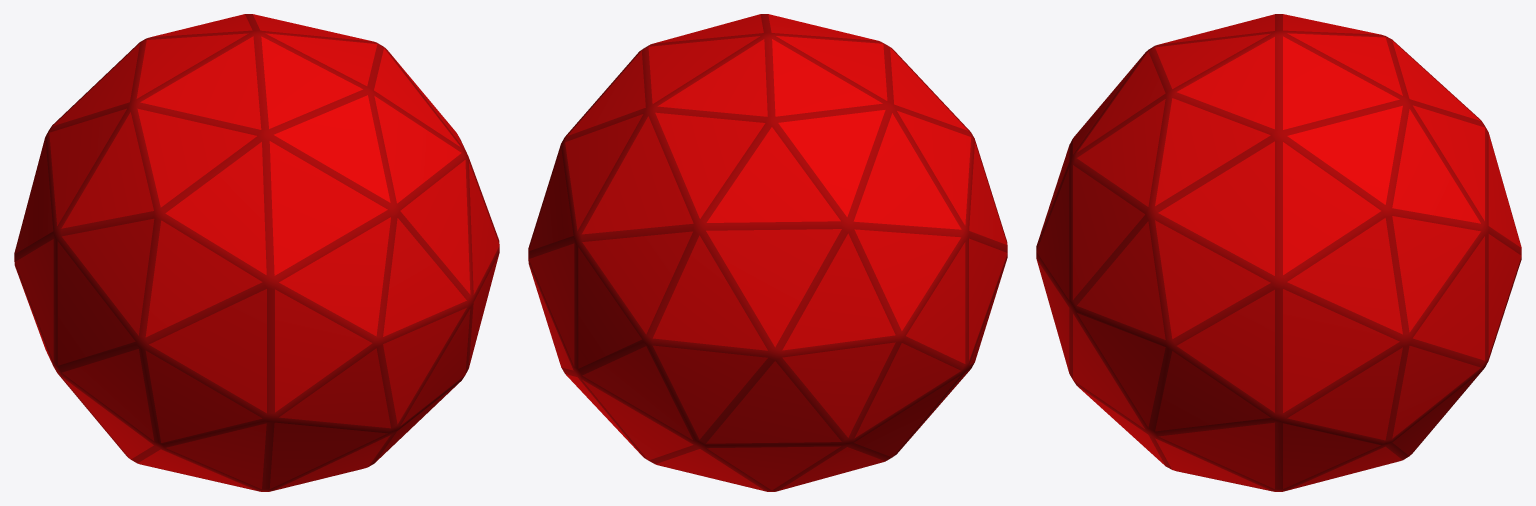
3 renders of one model, left to right at view 1: azimuth 30°, elevation 25°; view 2: azimuth 150°, elevation 25°; view 3: azimuth 270°, elevation 25°, orthographic.
Parts seen in each view (by area): view 1: satellite; view 2: satellite; view 3: satellite.
Part boxes in pixels (x1=…): satellite: x1=14, y1=14, x2=499, y2=491; satellite: x1=528, y1=14, x2=1007, y2=491; satellite: x1=1036, y1=14, x2=1521, y2=491.
Size of the model in its own units: 409 by 426 by 427.
